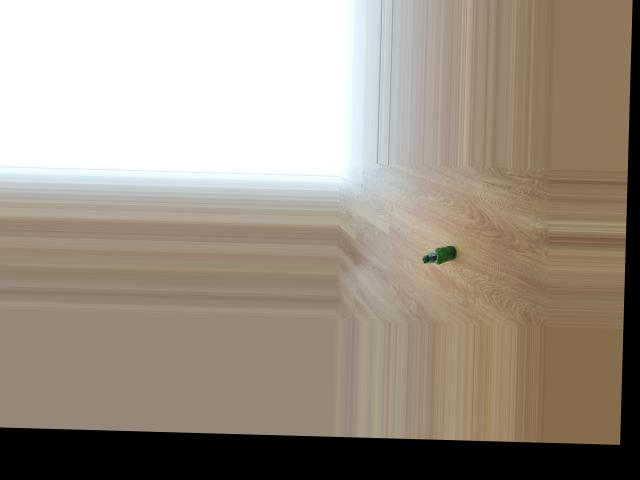beer: (422, 244, 456, 264)
